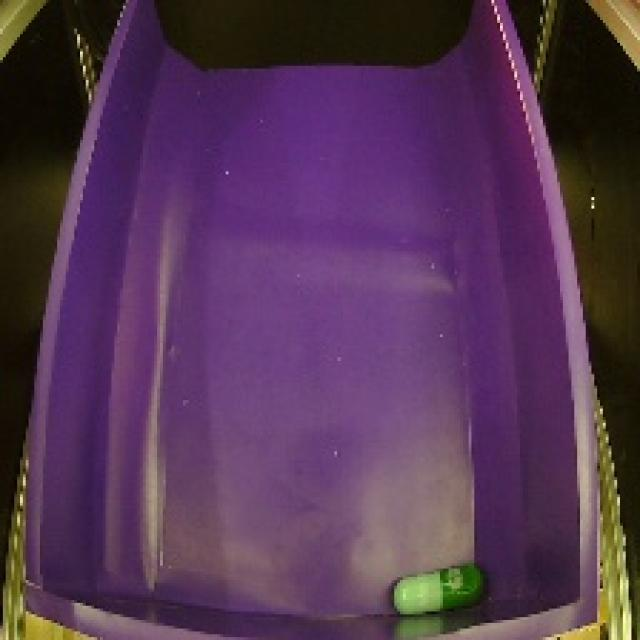small: (384, 552, 498, 620)
